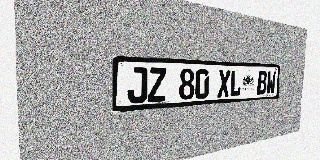0: (194, 69, 209, 99)
8: (179, 68, 195, 100)
B: (257, 71, 267, 95)
J: (127, 67, 148, 104)
L: (230, 70, 242, 97)
W: (266, 71, 276, 94)
X: (217, 69, 231, 98)
Z: (148, 68, 166, 102)
